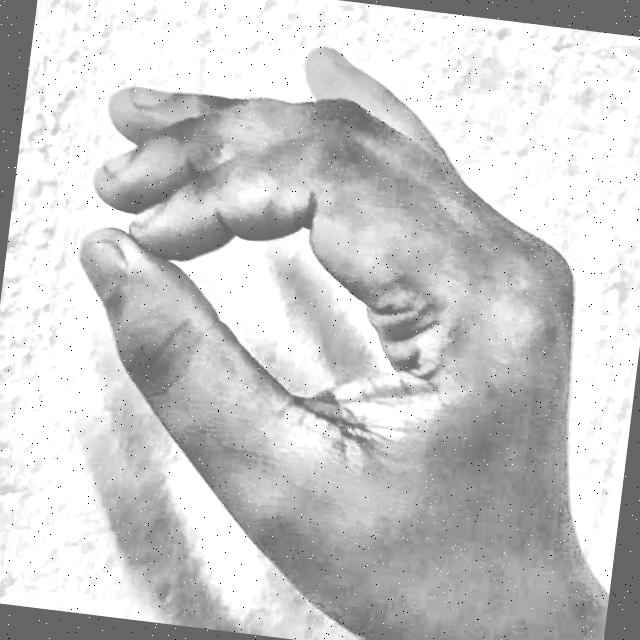Yo: (16, 0, 640, 640)
